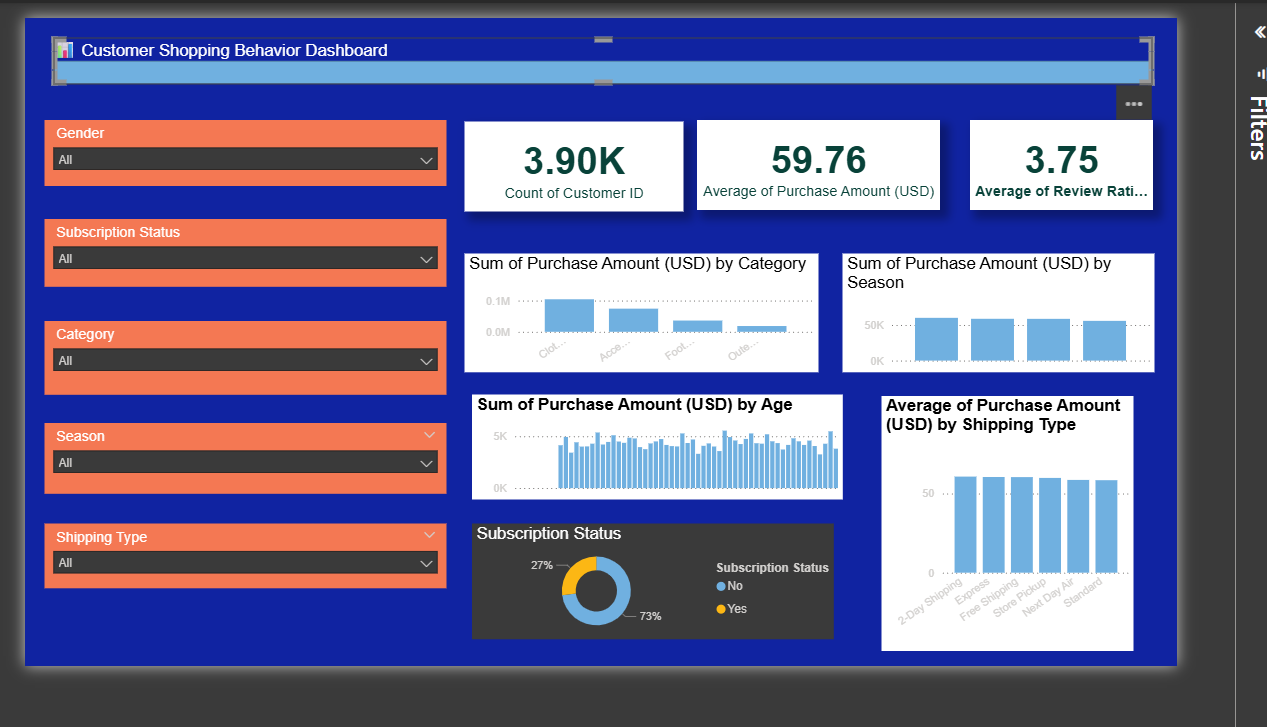

What the dashboard file says about the page in this screenshot:
{"tool":"powerbi","page":{"name":"Dashboard","canvas":[1280,720],"ordinal":0},"visuals":[{"type":"card","fields":{"Values":["Count(customer_shopping_behavior (1).Customer ID)"]},"box":[488.3,115,243.3,100],"z":0},{"type":"card","fields":{"Values":["Avg(customer_shopping_behavior (1).Purchase Amount (USD))"]},"box":[746.7,113.3,270,100],"z":1000},{"type":"card","fields":{"Values":["Avg(customer_shopping_behavior (1).Review Rating)"]},"box":[1050,113.3,203.3,100],"z":2000},{"type":"clusteredColumnChart","fields":{"Category":["customer_shopping_behavior (1).Category"],"Y":["Sum(customer_shopping_behavior (1).Purchase Amount (USD))"]},"box":[488.3,261.7,393.3,131.7],"z":2001},{"type":"clusteredColumnChart","fields":{"Y":["Sum(customer_shopping_behavior (1).Purchase Amount (USD))"],"Category":["customer_shopping_behavior (1).Age"]},"box":[496.7,418.3,411.7,116.7],"z":2002},{"type":"clusteredColumnChart","fields":{"Y":["Sum(customer_shopping_behavior (1).Purchase Amount (USD))"],"Category":["customer_shopping_behavior (1).Season"]},"box":[908.3,261.7,346.7,131.7],"z":2003},{"type":"clusteredColumnChart","fields":{"Category":["customer_shopping_behavior (1).Shipping Type"],"Y":["Avg(customer_shopping_behavior (1).Purchase Amount (USD))"]},"box":[951.7,420,280,283.3],"z":2004},{"type":"donutChart","title":"Subscription Status","fields":{"Category":["customer_shopping_behavior (1).Subscription Status"],"Y":["Count(customer_shopping_behavior (1).Customer ID)"]},"box":[496.7,561.7,401.7,128.3],"z":2005},{"type":"slicer","fields":{"Values":["customer_shopping_behavior (1).Gender"]},"box":[21.7,113.3,446.7,73.3],"z":2006},{"type":"slicer","fields":{"Values":["customer_shopping_behavior (1).Category"]},"box":[21.7,336.7,446.7,81.7],"z":2007},{"type":"slicer","fields":{"Values":["customer_shopping_behavior (1).Season"]},"box":[21.7,450,446.7,78.3],"z":2008},{"type":"slicer","fields":{"Values":["customer_shopping_behavior (1).Subscription Status"]},"box":[21.7,223.3,446.7,75],"z":2009},{"type":"slicer","fields":{"Values":["customer_shopping_behavior (1).Shipping Type"]},"box":[21.7,561.7,446.7,71.7],"z":2010},{"type":"shape","title":"📊  Customer Shopping Behavior Dashboard","box":[31.7,21.7,1221.7,51.7],"z":2011}]}

Visuals, with their boxes on the page's 1280x720 design canvas (x1, y1, x2, y2). These are canvas units, not pixel positions in the 1267x727 screenshot, which may show the page scaled, cropped or inside an application window:
card - Count(customer_shopping_behavior (1).Customer ID): (488,115,732,215)
card - Avg(customer_shopping_behavior (1).Purchase Amount (USD)): (747,113,1017,213)
card - Avg(customer_shopping_behavior (1).Review Rating): (1050,113,1253,213)
clusteredColumnChart - customer_shopping_behavior (1).Category x Sum(customer_shopping_behavior (1).Purchase Amount (USD)): (488,262,882,393)
clusteredColumnChart - Sum(customer_shopping_behavior (1).Purchase Amount (USD)) x customer_shopping_behavior (1).Age: (497,418,908,535)
clusteredColumnChart - Sum(customer_shopping_behavior (1).Purchase Amount (USD)) x customer_shopping_behavior (1).Season: (908,262,1255,393)
clusteredColumnChart - customer_shopping_behavior (1).Shipping Type x Avg(customer_shopping_behavior (1).Purchase Amount (USD)): (952,420,1232,703)
"Subscription Status" donutChart: (497,562,898,690)
slicer - customer_shopping_behavior (1).Gender: (22,113,468,187)
slicer - customer_shopping_behavior (1).Category: (22,337,468,418)
slicer - customer_shopping_behavior (1).Season: (22,450,468,528)
slicer - customer_shopping_behavior (1).Subscription Status: (22,223,468,298)
slicer - customer_shopping_behavior (1).Shipping Type: (22,562,468,633)
"📊  Customer Shopping Behavior Dashboard" shape: (32,22,1253,73)
